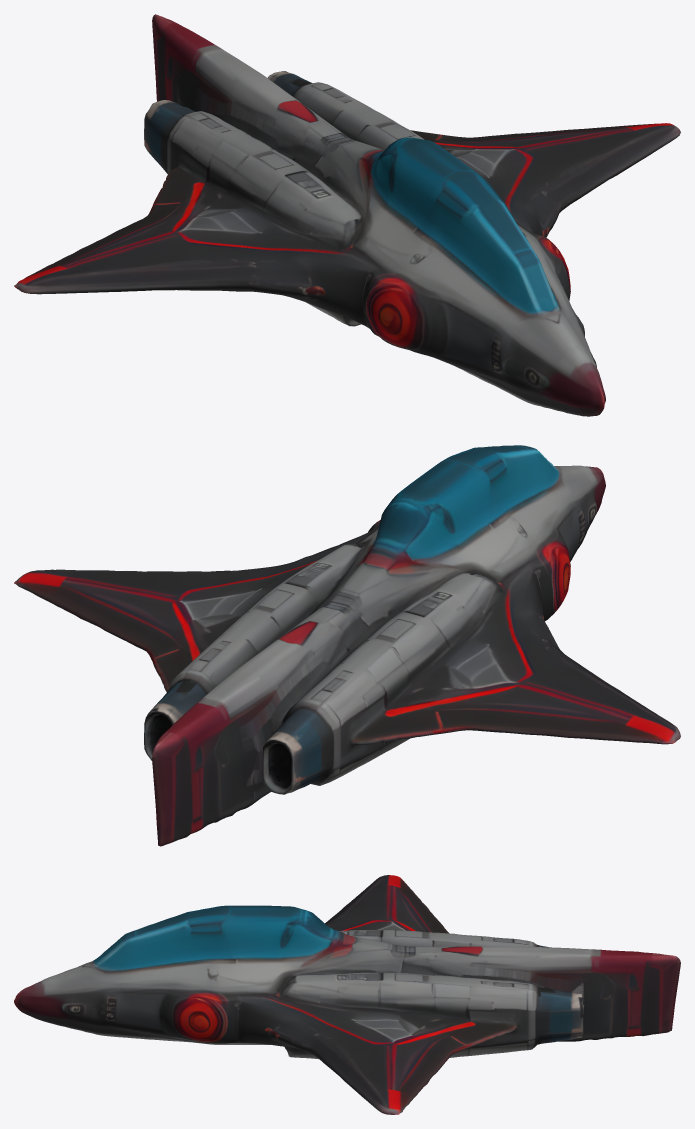
File: nave Rapida 1.fbx
3 views of the same model, one above another, from view 1: azimuth 30°, elevation 25°; view 2: azimuth 150°, elevation 25°; view 3: azimuth 270°, elevation 25° (orthographic). The views are drawn at different scales.
Parts seen in each view (by area): view 1: Rapida; view 2: Rapida; view 3: Rapida.
Boxes of the visible parts, box(x1,y1,x2,y2) form: Rapida: box(14, 14, 680, 416); Rapida: box(14, 445, 680, 846); Rapida: box(14, 875, 680, 1114).
Bounding box in the file's own units: 160 × 40.77 × 190.
